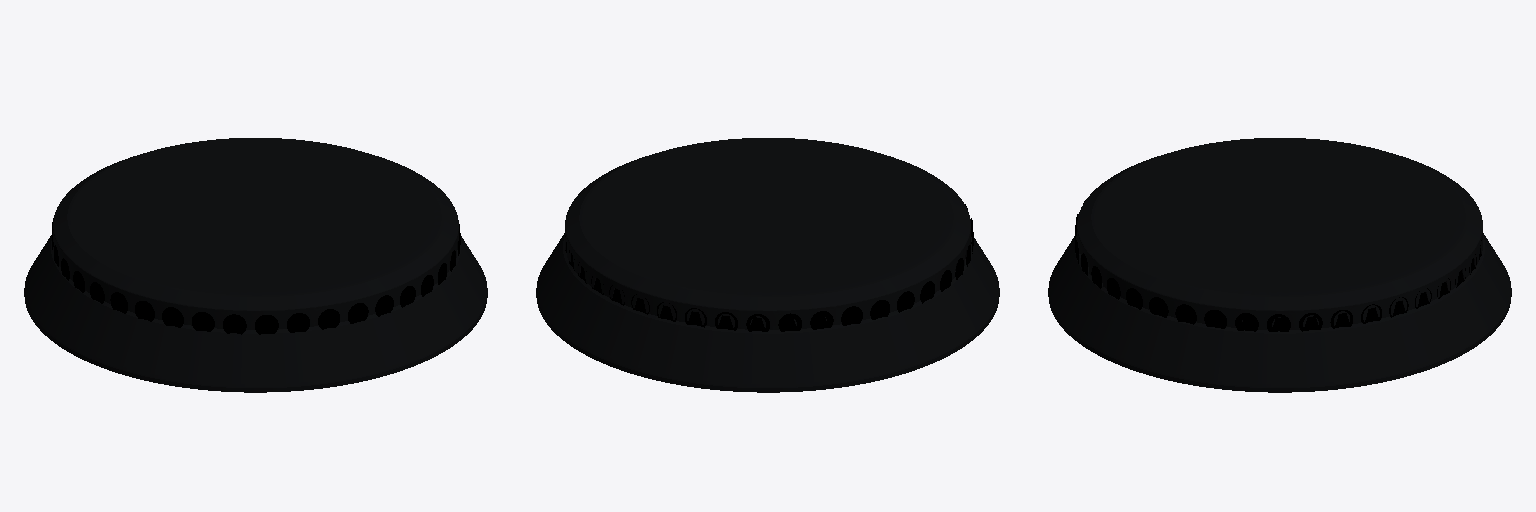
File: stove_top.obj
3 renders of one model, left to right at view 1: azimuth 30°, elevation 25°; view 2: azimuth 150°, elevation 25°; view 3: azimuth 270°, elevation 25°, orthographic.
Parts seen in each view (by area): view 1: Circle, Circle.002_Circle.001; view 2: Circle, Circle.002_Circle.001; view 3: Circle, Circle.002_Circle.001.
Boxes of the visible parts, box(x1,y1,x2,y2) form: Circle: box(24, 138, 487, 392); Circle.002_Circle.001: box(52, 218, 460, 334); Circle: box(536, 138, 999, 392); Circle.002_Circle.001: box(565, 204, 973, 331); Circle: box(1048, 138, 1511, 392); Circle.002_Circle.001: box(1075, 200, 1481, 331).
Bounding box in the file's own units: 2.28 × 0.4244 × 2.28.